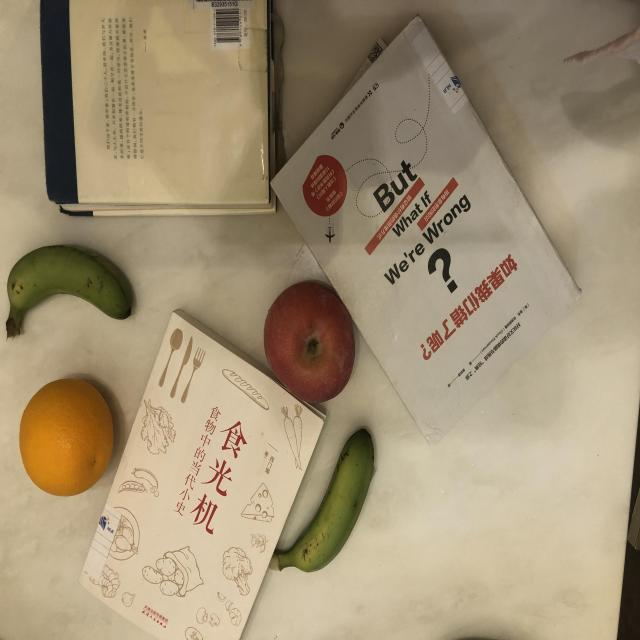Apple: (250, 278, 366, 410)
Banana: (270, 426, 389, 580), (0, 244, 137, 346)
Book: (269, 21, 583, 445), (60, 305, 339, 640), (30, 0, 292, 233)
Orange: (10, 358, 139, 505)
